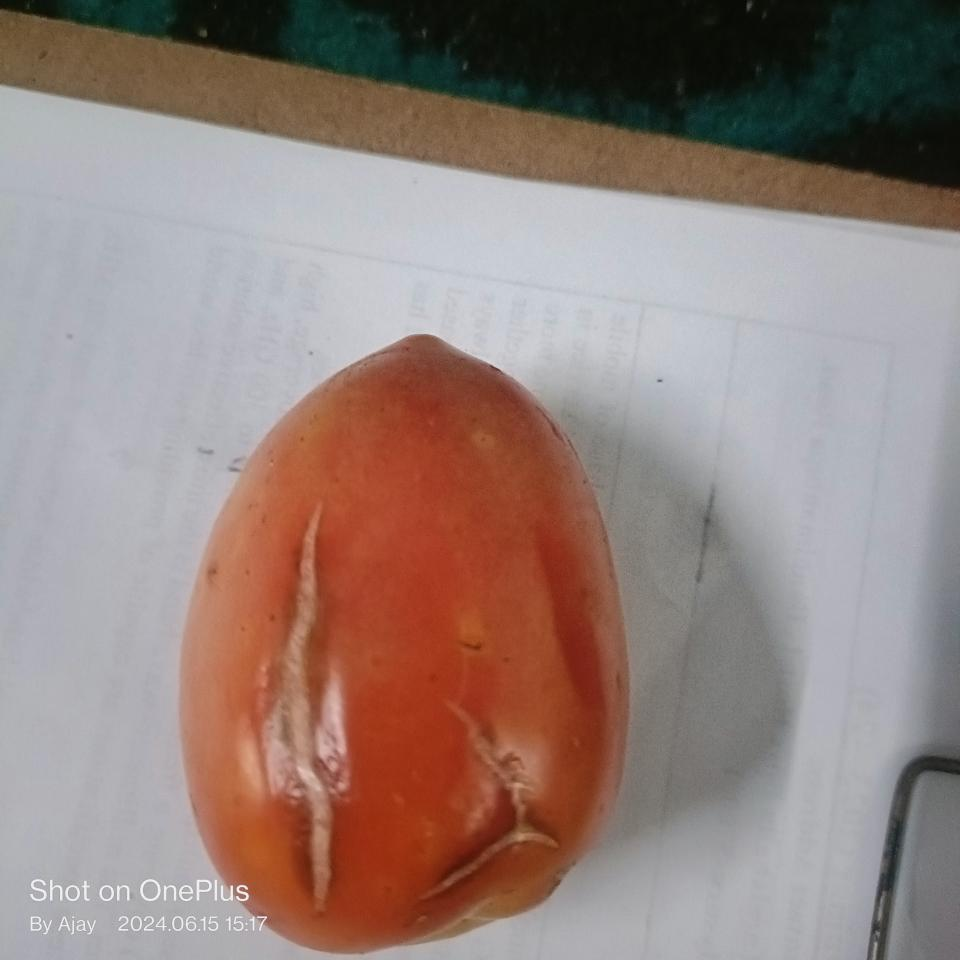Cracking: (253, 516, 340, 921), (407, 725, 562, 921)
